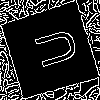U: (25, 25, 80, 74)
